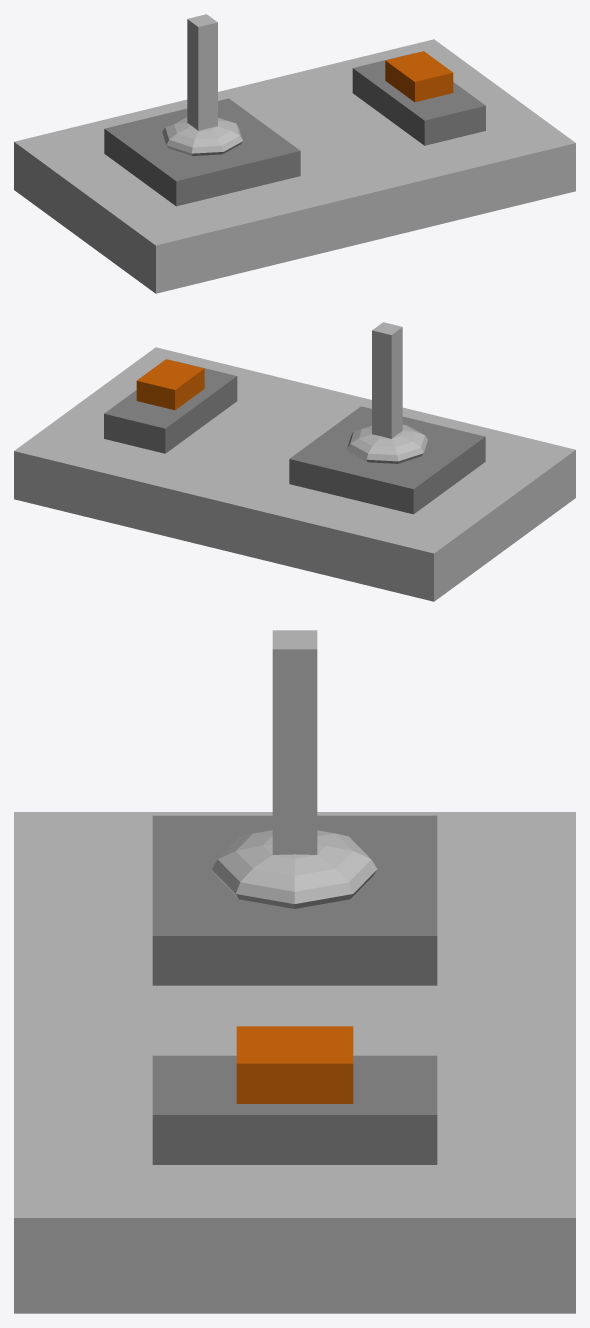
The model's file is Controller.glb.
3 renders of one model, top to bottom at view 1: azimuth 30°, elevation 25°; view 2: azimuth 150°, elevation 25°; view 3: azimuth 270°, elevation 25°, orthographic. The views are drawn at different scales.
Parts seen in each view (by area): view 1: pCube2, pCube1, pCube4, Lever, button, pSphere1; view 2: pCube2, pCube1, pCube4, Lever, button, pSphere1; view 3: pCube2, pCube1, pCube4, Lever, button, pSphere1.
Boxes of the visible parts, x1=… form: pCube2: x1=14, y1=39, x2=575, y2=293; pCube1: x1=104, y1=98, x2=300, y2=206; pCube4: x1=352, y1=53, x2=485, y2=145; Lever: x1=187, y1=14, x2=217, y2=130; button: x1=385, y1=51, x2=453, y2=102; pSphere1: x1=162, y1=117, x2=242, y2=155; pCube2: x1=14, y1=347, x2=575, y2=601; pCube1: x1=289, y1=406, x2=485, y2=514; pCube4: x1=104, y1=361, x2=237, y2=453; Lever: x1=372, y1=322, x2=402, y2=438; button: x1=136, y1=359, x2=204, y2=410; pSphere1: x1=347, y1=424, x2=427, y2=463; pCube2: x1=14, y1=812, x2=575, y2=1313; pCube1: x1=152, y1=815, x2=437, y2=985; pCube4: x1=152, y1=1055, x2=437, y2=1164; Lever: x1=272, y1=630, x2=317, y2=854; button: x1=236, y1=1026, x2=353, y2=1103; pSphere1: x1=211, y1=830, x2=377, y2=908.
Bounding box in the file's own units: 0.1129 × 0.0495 × 0.066.
